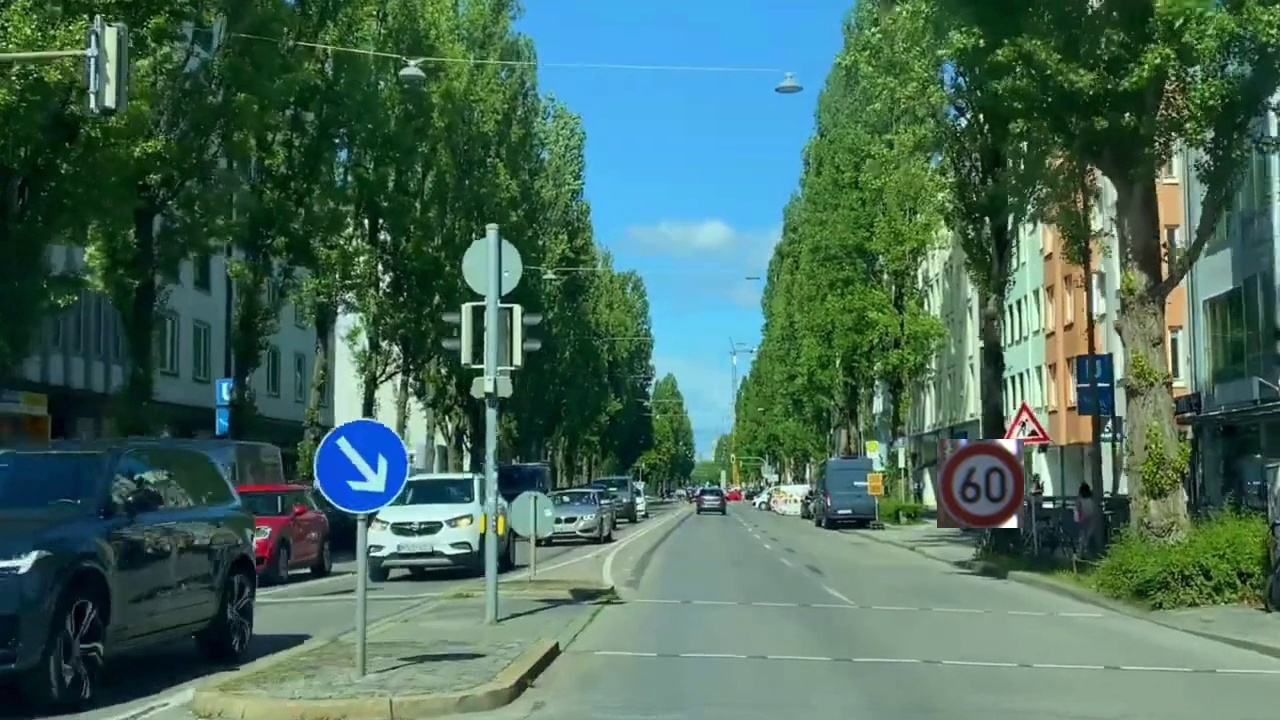Speed 60: (937, 439, 1024, 528)
